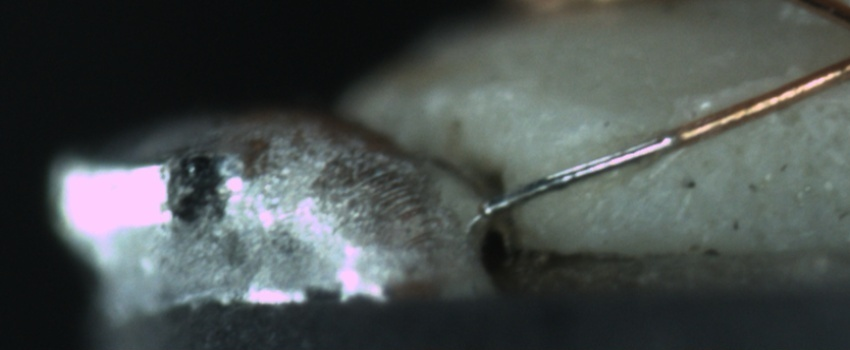TS: (484, 127, 668, 216)
